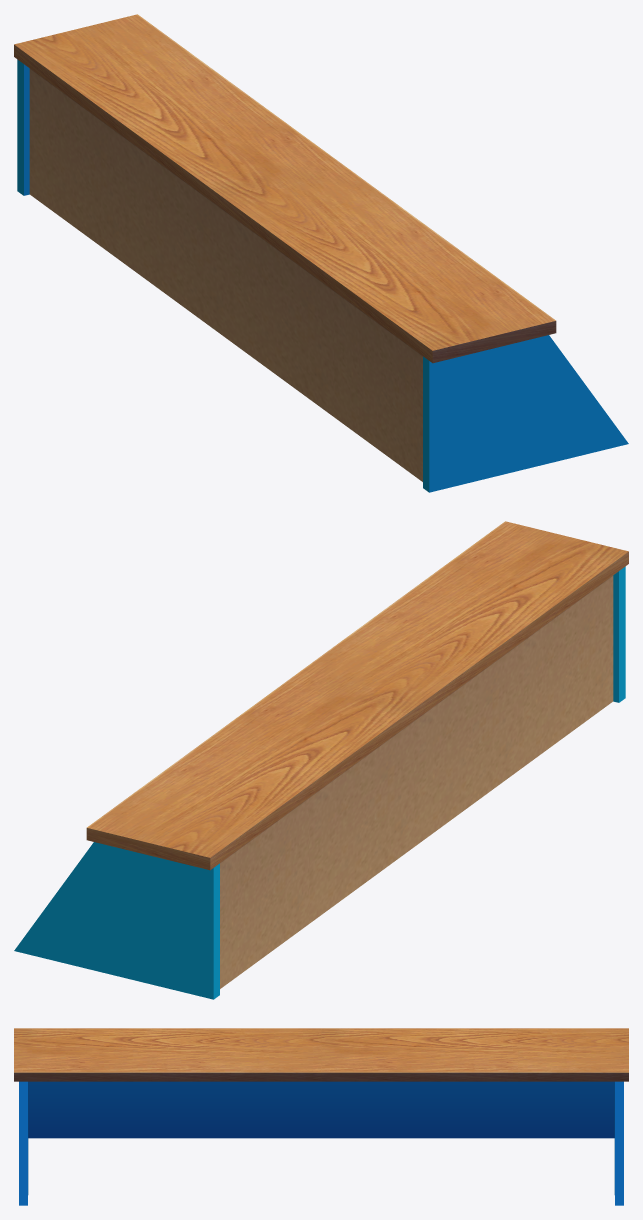
The picture shows the model from 3 angles, top to bottom: view 1: azimuth 30°, elevation 25°; view 2: azimuth 150°, elevation 25°; view 3: azimuth 270°, elevation 25°; orthographic projection. The views are drawn at different scales.
Parts seen in each view (by area): view 1: Joint_0_Object_1, Joint_0_Object_0; view 2: Joint_0_Object_1, Joint_0_Object_0; view 3: Joint_0_Object_1, Joint_0_Object_0.
Boxes of the visible parts, x1=… form: Joint_0_Object_1: x1=17, y1=59, x2=628, y2=492; Joint_0_Object_0: x1=14, y1=14, x2=556, y2=363; Joint_0_Object_1: x1=14, y1=566, x2=625, y2=999; Joint_0_Object_0: x1=86, y1=521, x2=628, y2=870; Joint_0_Object_1: x1=19, y1=1081, x2=623, y2=1205; Joint_0_Object_0: x1=14, y1=1028, x2=628, y2=1081.
Size of the model in its own units: 840 by 580 by 3050.
2 materials, 2 textured.
